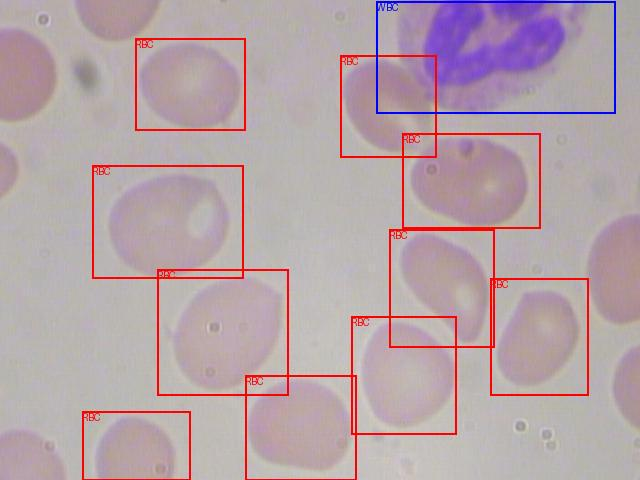RBC: (92, 165, 243, 278), (157, 269, 288, 395), (402, 133, 540, 228), (351, 316, 456, 434), (389, 229, 494, 347), (245, 375, 356, 480), (490, 278, 588, 395), (135, 38, 245, 130), (340, 55, 436, 157), (82, 411, 190, 480)
WBC: (376, 1, 615, 113)
